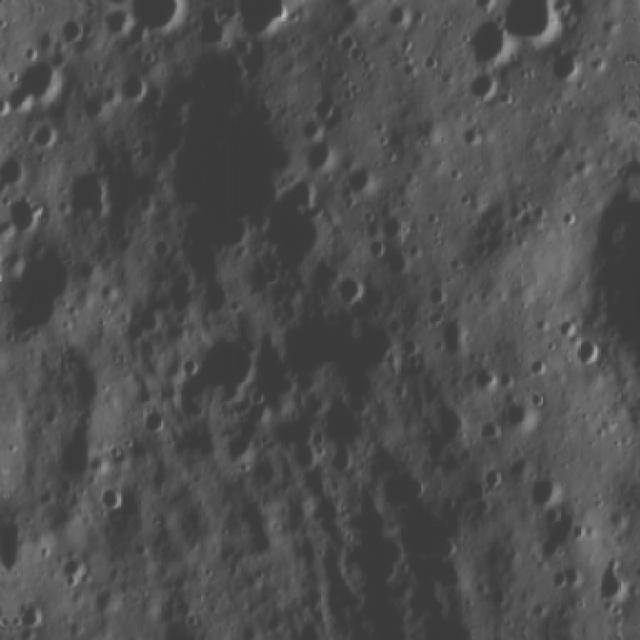crater: (163, 328, 265, 428), (60, 153, 123, 225), (0, 50, 66, 118), (454, 19, 523, 76), (496, 0, 566, 51), (371, 461, 429, 517), (330, 153, 384, 207), (433, 396, 473, 452), (587, 548, 627, 602), (432, 312, 476, 361), (302, 127, 344, 178), (462, 64, 506, 110), (5, 190, 46, 238), (524, 468, 571, 508), (331, 261, 369, 308), (93, 475, 132, 520), (56, 546, 92, 594), (132, 397, 171, 441), (572, 330, 612, 372), (372, 210, 416, 247), (16, 590, 50, 636), (548, 51, 588, 89), (28, 107, 60, 151), (112, 70, 152, 105), (0, 147, 32, 187), (422, 272, 458, 306), (327, 446, 359, 479), (474, 463, 506, 495), (523, 354, 555, 383), (525, 388, 547, 410)
